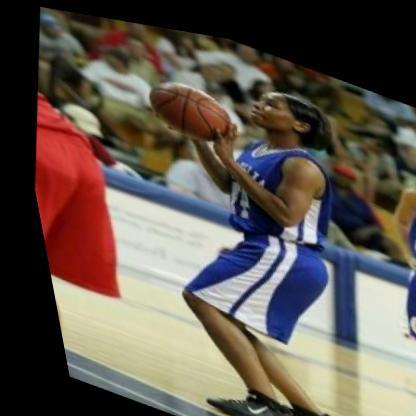basketball: (131, 60, 243, 152)
